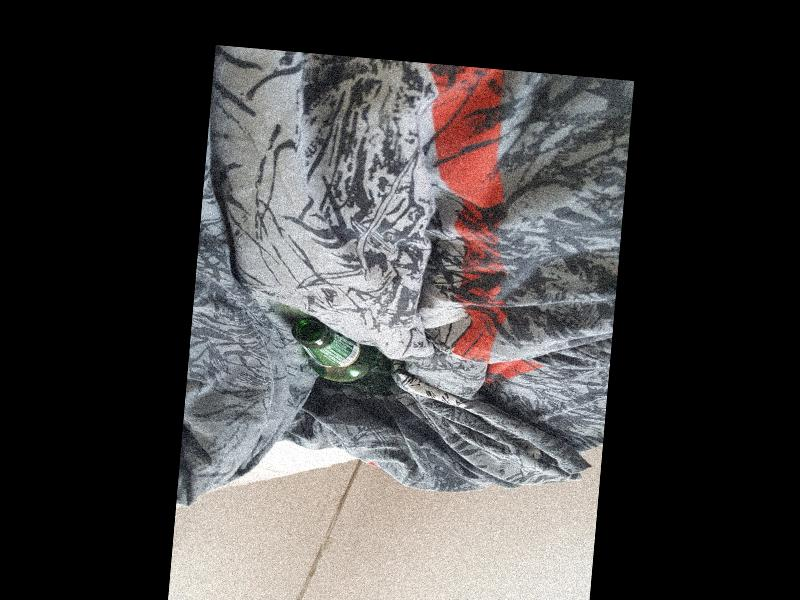Beer: (286, 315, 400, 395)
